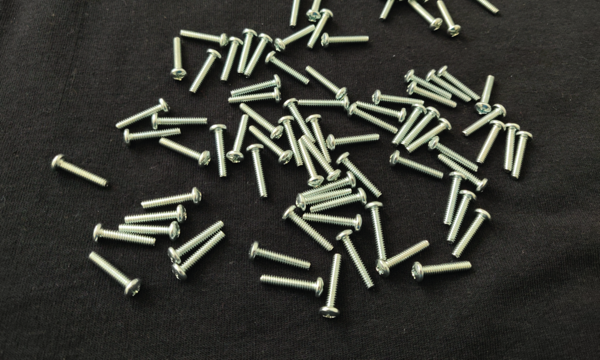longscrew: (170, 229, 228, 282), (87, 251, 144, 300), (280, 205, 336, 253), (167, 220, 225, 266), (336, 230, 375, 291), (375, 239, 432, 279), (450, 208, 493, 261), (435, 153, 490, 194), (336, 152, 383, 199), (49, 155, 110, 189), (246, 241, 312, 272), (300, 134, 342, 182), (248, 124, 294, 167), (427, 136, 480, 173), (115, 97, 172, 131), (444, 189, 478, 246), (317, 253, 344, 321), (187, 47, 223, 98), (239, 102, 285, 141), (158, 137, 212, 170), (388, 149, 445, 180), (406, 117, 453, 154), (400, 106, 441, 148), (298, 170, 357, 199), (346, 102, 399, 134), (264, 51, 311, 87), (460, 104, 508, 139), (282, 98, 318, 144), (310, 187, 369, 215), (364, 201, 388, 269), (436, 66, 481, 102), (391, 104, 429, 146), (295, 186, 354, 213), (402, 69, 455, 99), (92, 223, 158, 247), (410, 260, 474, 284), (425, 70, 473, 102), (304, 65, 349, 99), (259, 274, 325, 297), (277, 115, 305, 169), (442, 171, 468, 229), (141, 186, 203, 210), (476, 120, 507, 168), (406, 81, 459, 109), (305, 115, 334, 165), (245, 143, 270, 199), (244, 33, 274, 79), (117, 221, 182, 242), (273, 22, 317, 53), (297, 139, 325, 187), (123, 205, 189, 225), (230, 74, 283, 98), (407, 0, 444, 34), (510, 130, 535, 180), (306, 8, 335, 51), (354, 100, 408, 123), (121, 126, 183, 146), (219, 35, 244, 84), (302, 212, 363, 232), (208, 123, 229, 181), (226, 114, 250, 164), (150, 112, 210, 131), (228, 86, 282, 107), (236, 28, 259, 76), (436, 0, 463, 40), (179, 27, 229, 48), (298, 94, 352, 113), (327, 133, 382, 151), (371, 89, 425, 107), (503, 122, 521, 175), (475, 75, 497, 116), (169, 36, 188, 83), (320, 32, 371, 48), (378, 0, 405, 23), (460, 0, 501, 15), (288, 0, 307, 29), (305, 0, 326, 24), (385, 0, 430, 4), (397, 0, 439, 2)
